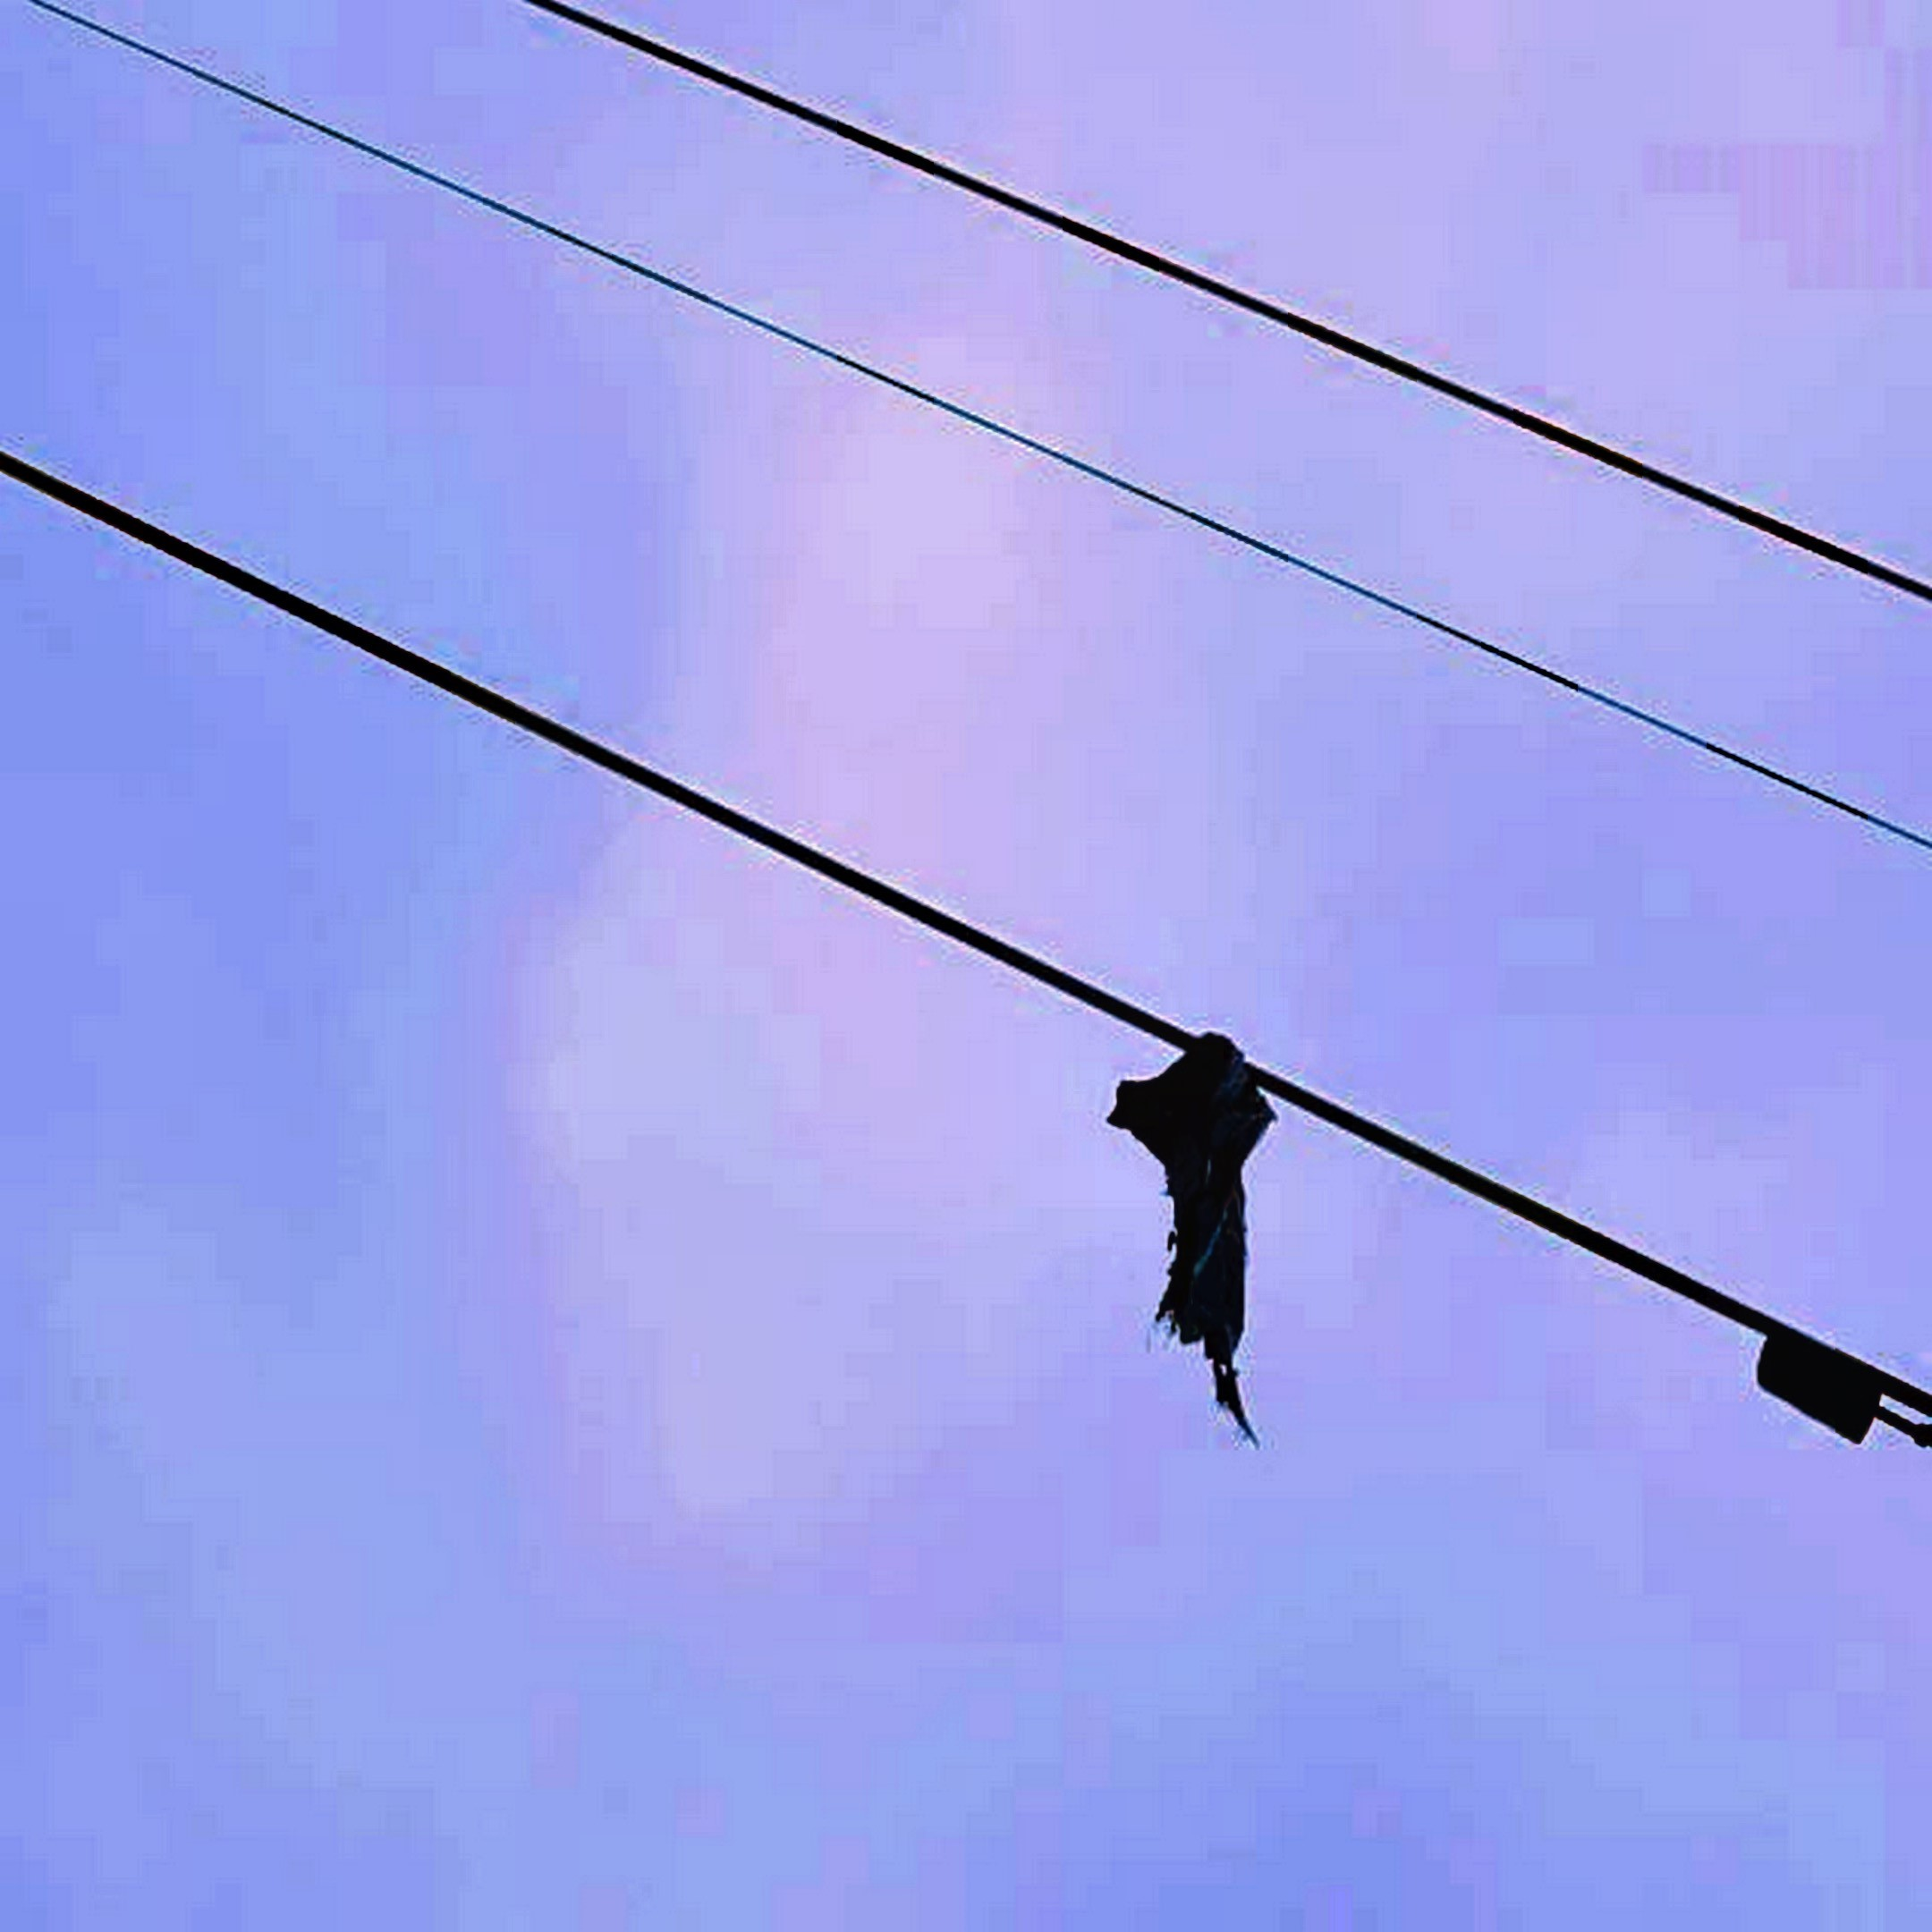wire foreign body: (1065, 980, 1320, 1445)
